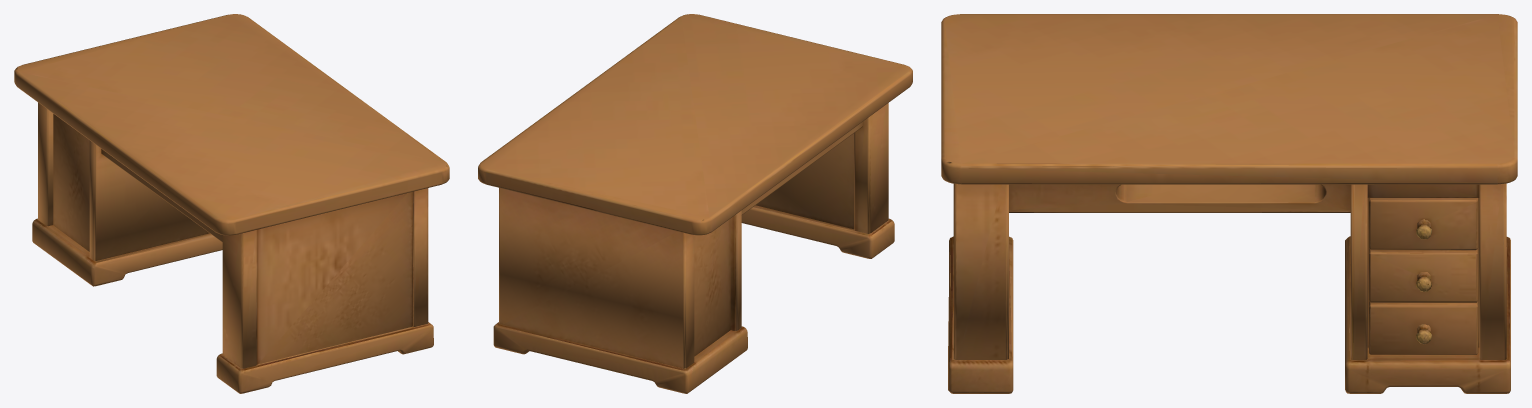
Rendered from desk-lod0.glb.
3 renders of one model, left to right at view 1: azimuth 30°, elevation 25°; view 2: azimuth 150°, elevation 25°; view 3: azimuth 270°, elevation 25°, orthographic. The views are drawn at different scales.
Visible parts, largest first — view 1: tripo_part_4, tripo_part_13, tripo_part_6; view 2: tripo_part_4, tripo_part_13, tripo_part_6; view 3: tripo_part_4, tripo_part_6, tripo_part_7, tripo_part_9, tripo_part_8, tripo_part_20.
Boxes of the visible parts, x1,y1,x2,y2 form: tripo_part_4: [14, 14, 449, 393]; tripo_part_13: [222, 230, 257, 368]; tripo_part_6: [101, 149, 222, 242]; tripo_part_4: [478, 14, 912, 393]; tripo_part_13: [854, 103, 888, 233]; tripo_part_6: [741, 122, 862, 214]; tripo_part_4: [941, 14, 1517, 393]; tripo_part_6: [1009, 184, 1350, 212]; tripo_part_7: [1369, 248, 1478, 302]; tripo_part_9: [1369, 198, 1478, 250]; tripo_part_8: [1369, 300, 1478, 354]; tripo_part_20: [1367, 198, 1479, 347].
Bounding box in the file's own units: 0.6281 × 0.4599 × 1.
11 materials, 11 textured.
